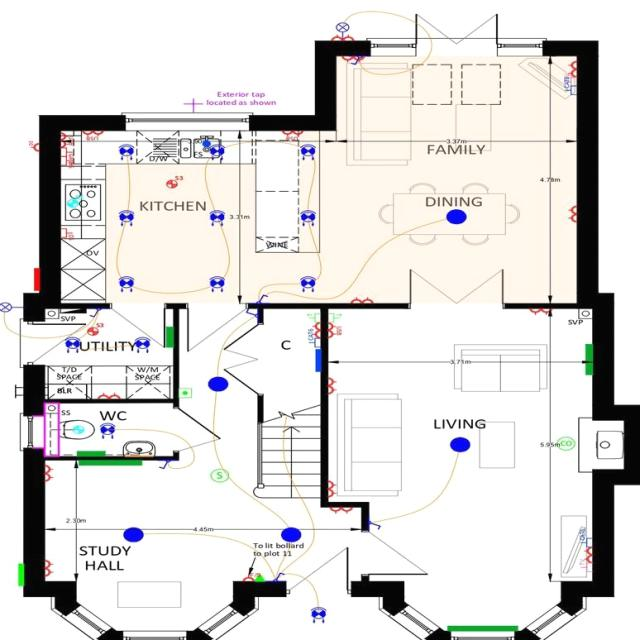BT Entry Point: (253, 568, 269, 584)
Cat 6 Data Socket: (577, 531, 600, 549), (300, 334, 323, 350), (561, 84, 578, 99)
Ceiling Mounted Continuous Extract Fan With Boost Mode Activated By Light Switch: (70, 418, 90, 438)
Ceiling Mounted Continuous Extract Fan With Local Boost Switch: (156, 170, 188, 190), (88, 322, 105, 340)
Co-Ax TV Socket: (560, 76, 578, 84)
Consumer Unit: (59, 304, 89, 319)
Double Socket: (326, 476, 342, 504), (329, 505, 357, 519), (337, 52, 367, 65), (44, 461, 59, 484), (347, 292, 378, 303), (522, 308, 555, 318), (328, 374, 341, 399), (94, 390, 126, 400), (566, 202, 578, 228), (45, 552, 56, 580), (309, 319, 325, 338), (564, 59, 579, 75), (328, 33, 357, 41), (583, 546, 595, 564)
Electric Meter Box: (31, 266, 42, 290)
External Wall Light: (0, 297, 25, 322), (332, 16, 354, 40)
Fused spur: (239, 566, 255, 582)
Gas Meter Box: (6, 556, 26, 588)
Hob Switch: (60, 146, 76, 156)
Light Switch: (370, 516, 388, 535), (271, 569, 296, 582), (86, 308, 109, 322), (252, 290, 276, 302), (156, 459, 176, 471), (347, 55, 365, 66), (244, 305, 259, 318)
Low Energy Downlighter: (196, 267, 231, 300), (298, 139, 326, 169), (118, 272, 148, 300), (203, 207, 234, 234), (298, 270, 322, 304), (304, 599, 332, 626), (113, 204, 143, 229), (293, 204, 321, 230), (98, 412, 118, 447), (122, 332, 153, 354), (113, 140, 140, 165), (60, 329, 87, 352), (210, 142, 229, 164)
Low Energy Pendant Light: (435, 202, 483, 230), (208, 364, 234, 403), (278, 522, 308, 552), (442, 435, 478, 456), (122, 523, 148, 549)
Mains Wired Smoke Detector: (202, 464, 232, 484)
Outside Socket: (26, 138, 42, 156)
Outside Tap: (179, 93, 206, 116)
Oven Switch: (61, 224, 78, 244), (61, 154, 74, 170)
Programmable Room Thermostat: (180, 381, 194, 402)
Radiator: (447, 615, 525, 633), (78, 458, 147, 470), (582, 341, 593, 378), (162, 322, 176, 349), (74, 449, 110, 457)
Recirculating Extractor Fan: (64, 190, 89, 211)
Telephone Socket: (328, 310, 352, 323), (303, 310, 325, 322)
Telephone SocketUnderfloor Heating Manifold: (311, 345, 325, 374)
USB Double Socket: (84, 126, 112, 144), (328, 322, 347, 344), (280, 130, 308, 141), (61, 129, 75, 148)
Water Entry Position: (200, 136, 213, 148)
